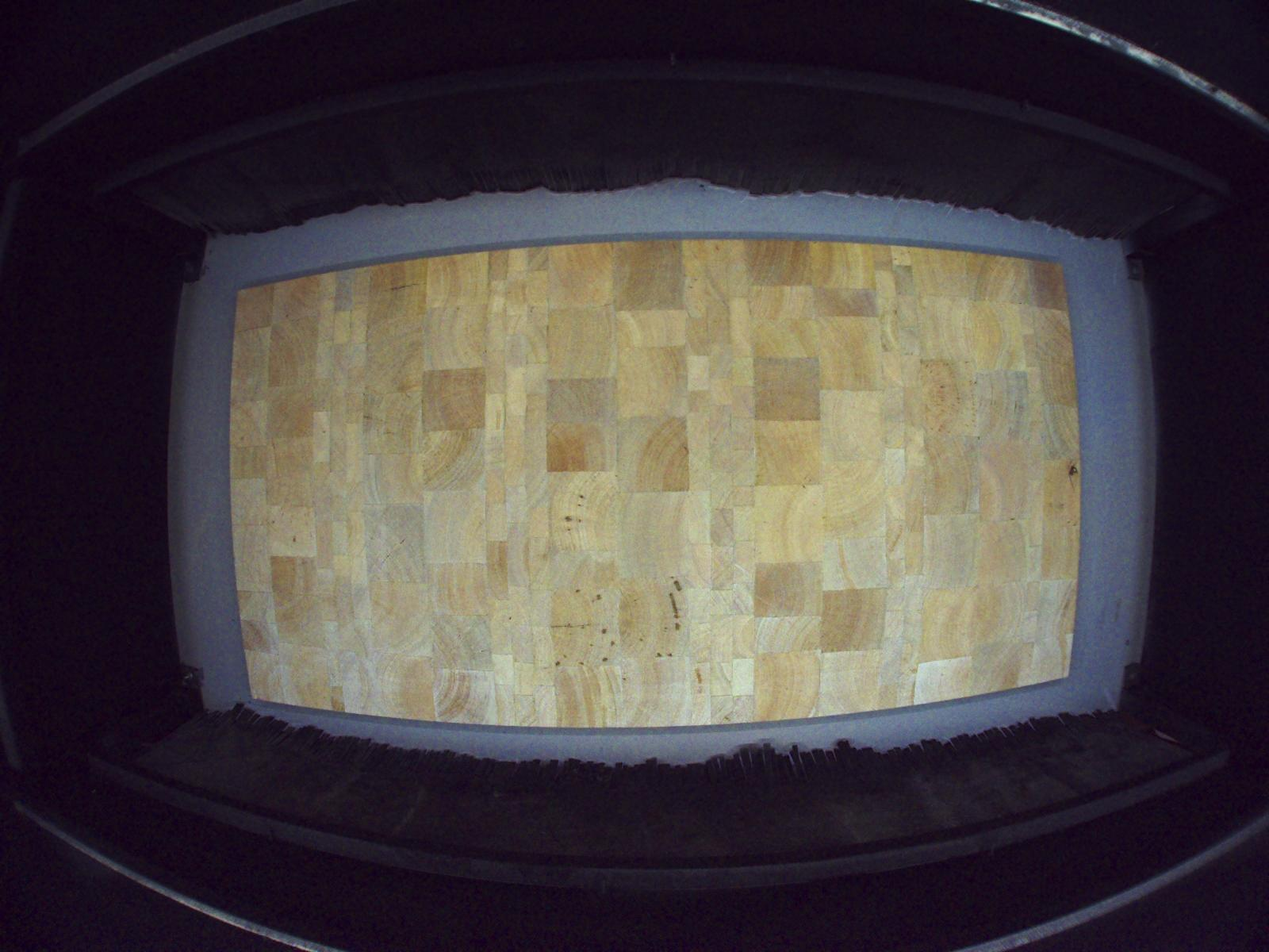nudillo: (1068, 464, 1079, 478)
